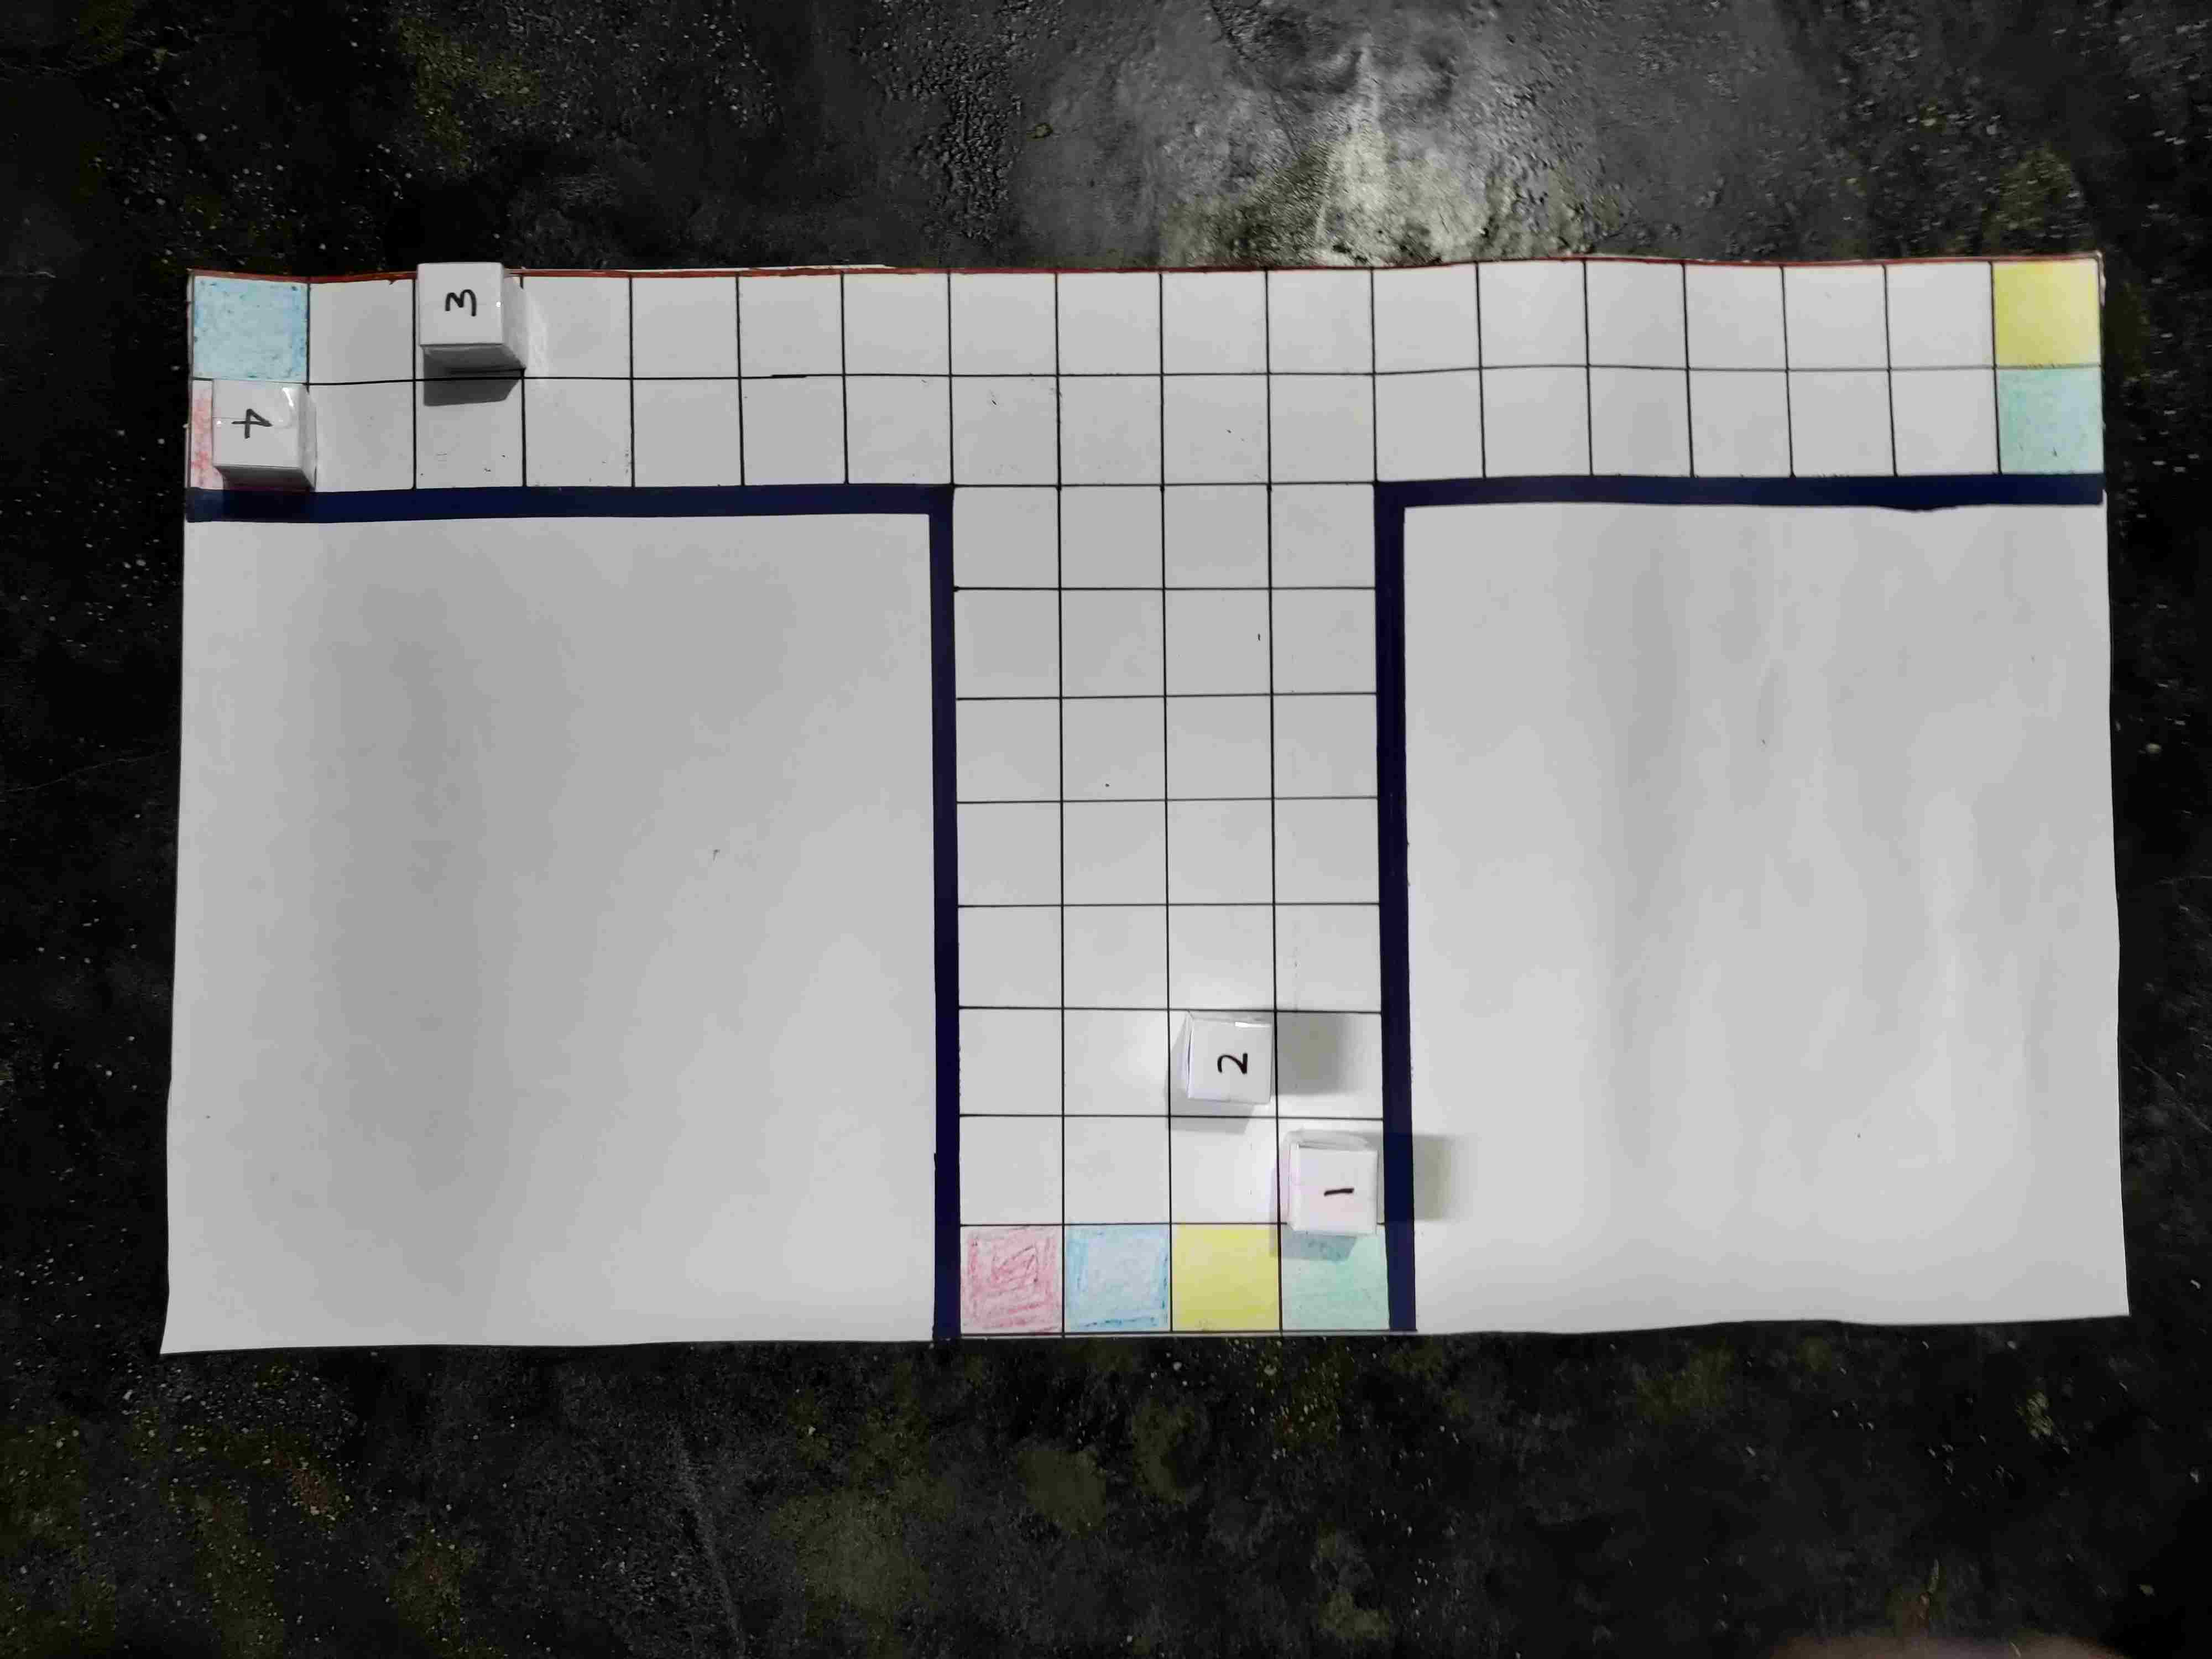arena: (129, 295, 2101, 1438)
bot: (1000, 1204, 1087, 1291), (425, 1171, 507, 1262), (1914, 1225, 2005, 1307), (1120, 422, 1205, 500)
